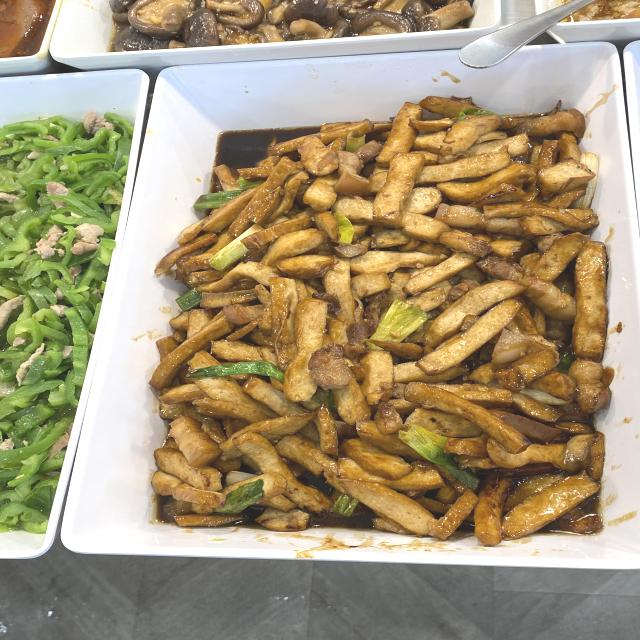Fried dried beans: (194, 130, 576, 507)
